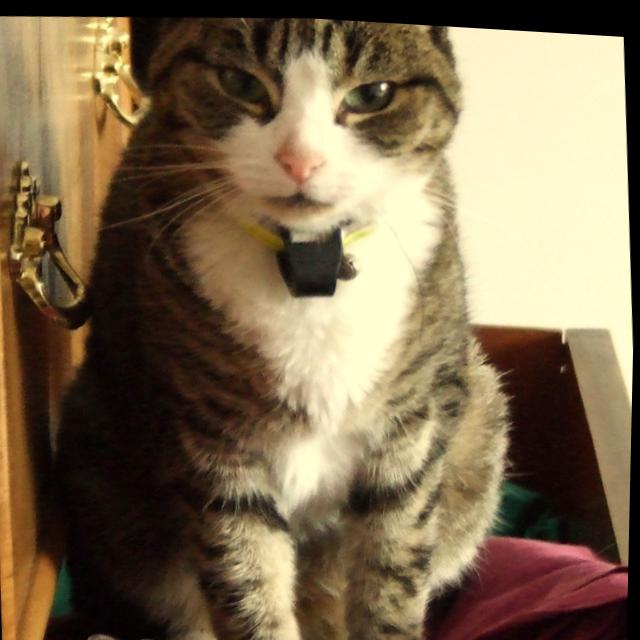animals: (176, 8, 456, 186)
